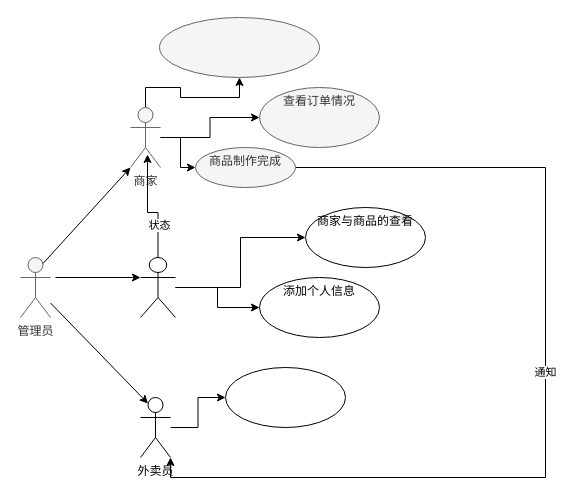
Some shapes in this 573 by 503 pixel diagram are drawn without their labels. Each missing label, with the box of its shape:
同学: (140, 256, 176, 318)
增加改查商品: (158, 16, 320, 78)
订单信息(商家 收货地址): (224, 366, 346, 428)
